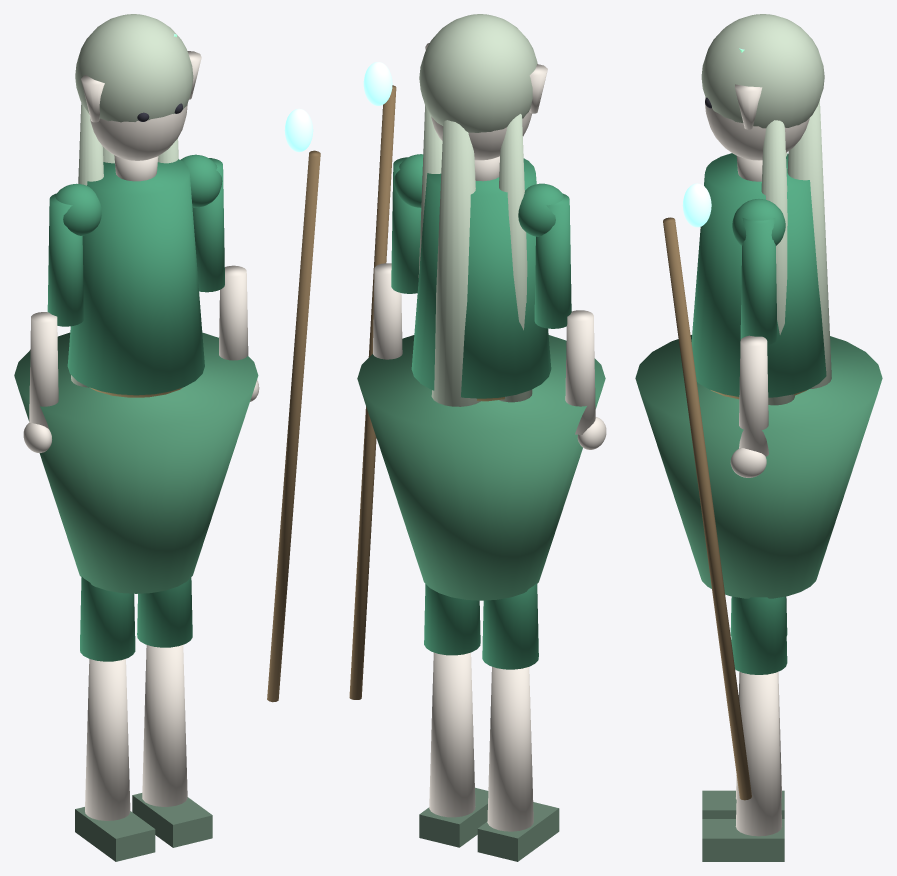
File: ai_erwei.glb
3 views of the same model, side by side, from view 1: azimuth 30°, elevation 25°; view 2: azimuth 150°, elevation 25°; view 3: azimuth 270°, elevation 25° (orthographic).
Visible parts, largest first — view 1: Skirt, Torso, HairCap, StaffRod, ShinR, ShinL, ThighL, UpperArmL, ThighR, Head, ForeArmL, FootL (+10 smaller); view 2: Skirt, Torso, HairCap, ElfHairB, ShinL, ShinR, StaffRod, ThighL, UpperArmL, ElfHairL, ThighR, ForeArmL (+12 smaller); view 3: Skirt, Torso, HairCap, StaffRod, ShinR, ThighR, UpperArmR, ElfHairB, ForeArmR, ElfHairR, FootR, Head (+6 smaller).
Boxes of the visible parts, x1,y1,x2,y2 form: Skirt: [14, 332, 258, 593]; Torso: [67, 159, 204, 395]; HairCap: [75, 14, 193, 122]; StaffRod: [267, 150, 320, 702]; ShinR: [142, 645, 187, 806]; ShinL: [85, 659, 130, 820]; ThighL: [80, 577, 135, 661]; UpperArmL: [47, 193, 83, 326]; ThighR: [137, 577, 192, 647]; Head: [90, 104, 187, 160]; ForeArmL: [29, 312, 58, 429]; FootL: [75, 807, 155, 861]; Skirt: [357, 335, 605, 600]; Torso: [411, 158, 551, 398]; HairCap: [419, 14, 537, 132]; ElfHairB: [431, 120, 480, 406]; ShinL: [487, 666, 533, 831]; ShinR: [429, 652, 475, 817]; StaffRod: [349, 85, 396, 699]; ThighL: [482, 583, 538, 669]; UpperArmL: [534, 193, 571, 328]; ElfHairL: [499, 114, 532, 402]; ThighR: [424, 584, 480, 655]; ForeArmL: [565, 310, 595, 434]; Skirt: [635, 335, 882, 598]; Torso: [691, 153, 826, 397]; HairCap: [701, 14, 824, 128]; StaffRod: [663, 217, 751, 800]; ShinR: [735, 672, 782, 836]; ThighR: [731, 596, 787, 674]; UpperArmR: [740, 218, 777, 345]; ElfHairB: [787, 100, 831, 388]; ForeArmR: [739, 335, 768, 456]; ElfHairR: [761, 120, 794, 405]; FootR: [702, 819, 784, 861]; Head: [705, 97, 809, 160].
Bounding box in the file's own units: 0.5886 × 1.75 × 0.48.
